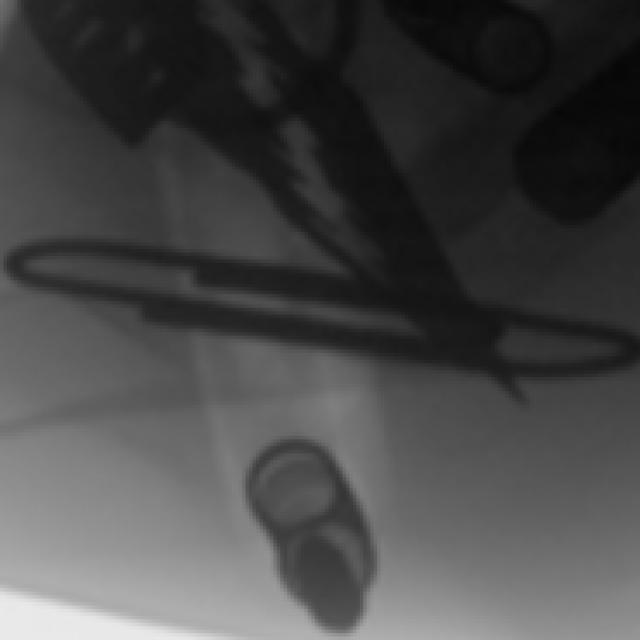BLADE: (139, 1, 523, 438)
